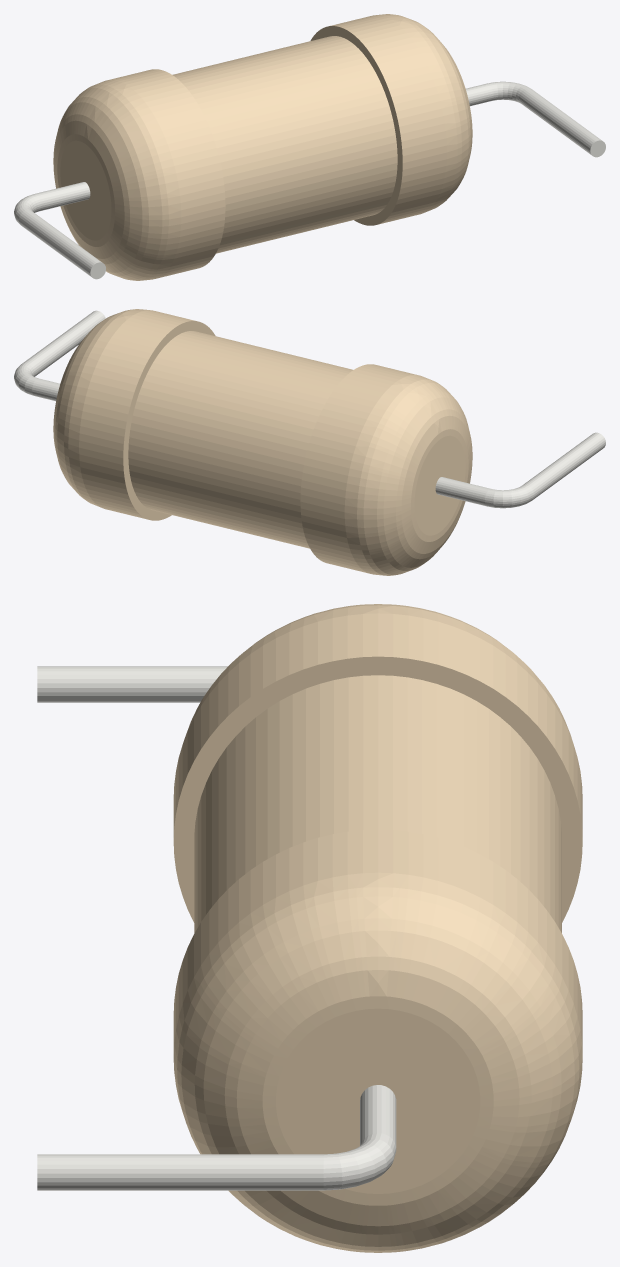
Rendered from R_Axial_DIN0918_L18.0mm_D9.0mm_P25.40mm_Horizontal.glb.
3 renders of one model, top to bottom at view 1: azimuth 30°, elevation 25°; view 2: azimuth 150°, elevation 25°; view 3: azimuth 270°, elevation 25°, orthographic. The views are drawn at different scales.
Parts seen in each view (by area): view 1: Shape_IndexedFaceSet.004, Shape_IndexedFaceSet.010, Shape_IndexedFaceSet.008, Shape_IndexedFaceSet, Shape_IndexedFaceSet.001, Shape_IndexedFaceSet.012, Shape_IndexedFaceSet.002, Shape_IndexedFaceSet.009, Shape_IndexedFaceSet.015, Shape_IndexedFaceSet.013, Shape_IndexedFaceSet.007, Shape_IndexedFaceSet.005 (+1 smaller); view 2: Shape_IndexedFaceSet.004, Shape_IndexedFaceSet.010, Shape_IndexedFaceSet.008, Shape_IndexedFaceSet, Shape_IndexedFaceSet.001, Shape_IndexedFaceSet.012, Shape_IndexedFaceSet.002, Shape_IndexedFaceSet.015, Shape_IndexedFaceSet.009, Shape_IndexedFaceSet.013, Shape_IndexedFaceSet.014, Shape_IndexedFaceSet.007 (+1 smaller); view 3: Shape_IndexedFaceSet.001, Shape_IndexedFaceSet.004, Shape_IndexedFaceSet.003, Shape_IndexedFaceSet.008, Shape_IndexedFaceSet, Shape_IndexedFaceSet.006, Shape_IndexedFaceSet.009, Shape_IndexedFaceSet.015, Shape_IndexedFaceSet.010, Shape_IndexedFaceSet.007, Shape_IndexedFaceSet.005.
Boxes of the visible parts, box(x1,y1,x2,y2) form: Shape_IndexedFaceSet.004: box(172, 36, 397, 253); Shape_IndexedFaceSet.010: box(53, 80, 181, 280); Shape_IndexedFaceSet.008: box(109, 69, 225, 278); Shape_IndexedFaceSet: box(330, 15, 446, 224); Shape_IndexedFaceSet.001: box(376, 14, 472, 212); Shape_IndexedFaceSet.012: box(60, 140, 111, 240); Shape_IndexedFaceSet.002: box(310, 26, 402, 225); Shape_IndexedFaceSet.009: box(518, 88, 602, 154); Shape_IndexedFaceSet.015: box(19, 210, 102, 277); Shape_IndexedFaceSet.013: box(35, 182, 90, 211); Shape_IndexedFaceSet.007: box(488, 81, 529, 103); Shape_IndexedFaceSet.005: box(466, 83, 493, 106); Shape_IndexedFaceSet.004: box(128, 331, 352, 548); Shape_IndexedFaceSet.010: box(344, 375, 472, 575); Shape_IndexedFaceSet.008: box(300, 364, 416, 573); Shape_IndexedFaceSet: box(79, 310, 195, 519); Shape_IndexedFaceSet.001: box(53, 309, 149, 507); Shape_IndexedFaceSet.012: box(414, 435, 465, 535); Shape_IndexedFaceSet.002: box(123, 321, 215, 520); Shape_IndexedFaceSet.015: box(522, 432, 605, 499); Shape_IndexedFaceSet.009: box(22, 310, 105, 376); Shape_IndexedFaceSet.013: box(435, 477, 490, 505); Shape_IndexedFaceSet.014: box(485, 485, 534, 508); Shape_IndexedFaceSet.007: box(14, 363, 37, 395); Shape_IndexedFaceSet.001: box(173, 872, 582, 1252); Shape_IndexedFaceSet.004: box(194, 675, 561, 932); Shape_IndexedFaceSet.003: box(276, 1008, 480, 1193); Shape_IndexedFaceSet.008: box(173, 613, 582, 837); Shape_IndexedFaceSet: box(173, 829, 582, 1053); Shape_IndexedFaceSet.006: box(173, 656, 582, 922); Shape_IndexedFaceSet.009: box(37, 1154, 323, 1190); Shape_IndexedFaceSet.015: box(37, 666, 227, 702); Shape_IndexedFaceSet.010: box(184, 604, 572, 740); Shape_IndexedFaceSet.007: box(323, 1133, 396, 1190); Shape_IndexedFaceSet.005: box(360, 1085, 396, 1146).
Size of the model in its own units: 10.31 by 3.54 by 4.72.
